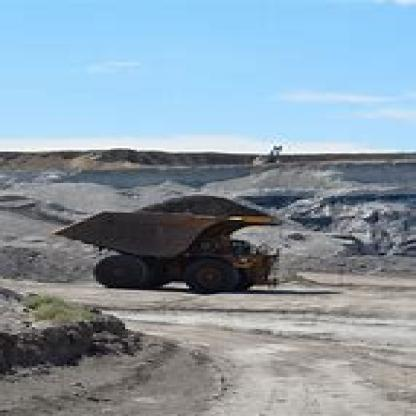dump_truck: (67, 189, 308, 296)
